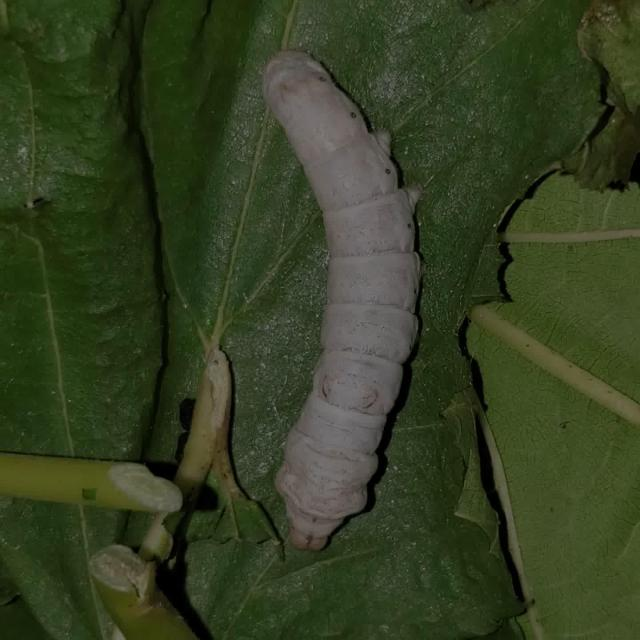Healthy: (236, 24, 442, 567)
